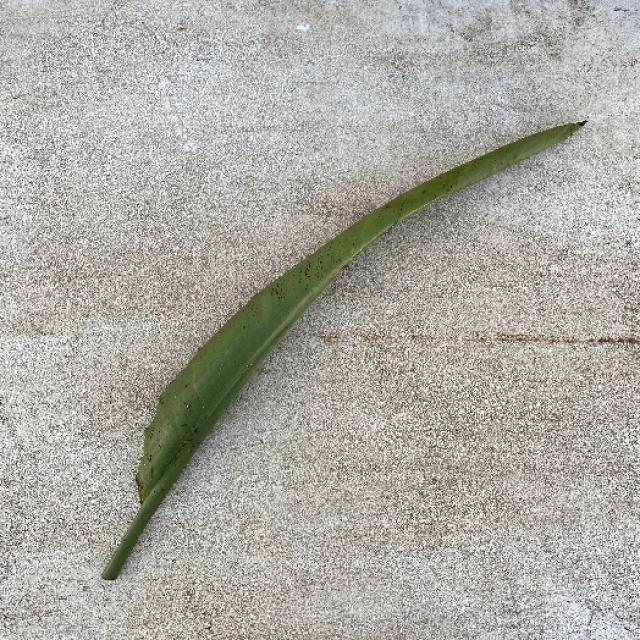organik: (94, 108, 582, 606)
